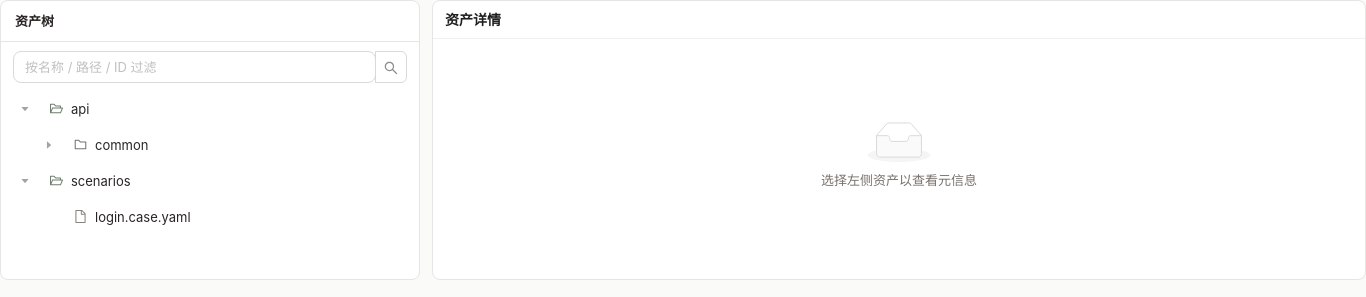
Test: AssetBrowser › 本地过滤保留祖先，清空后恢复
This screenshot has width=1366, height=297.
Expected: the text "scenarios" is shown, [71,171,131,192]
In the search field named "过滤资产": (186, 67) [25,56,348,78], type "health_check"
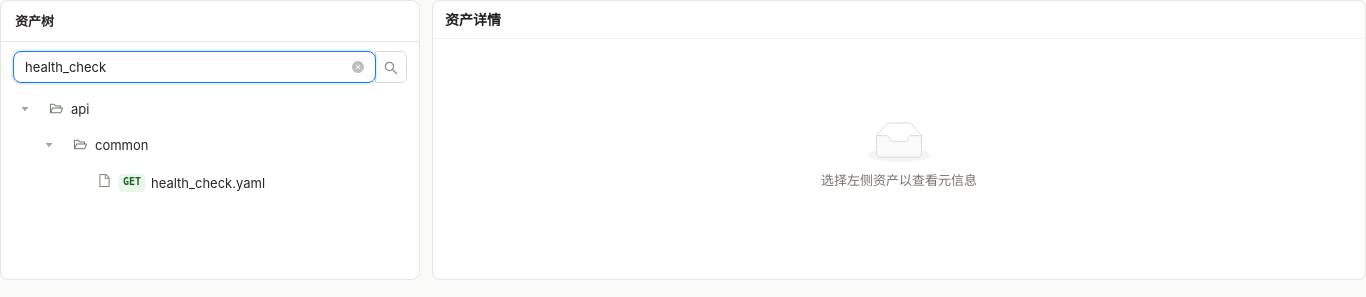
Expected: the element showing "api" is shown, [71,99,89,120]
Expected: the text "health_check.yaml" is shown, [151,173,265,194]
Clear the search field named "过滤资产": (186, 67) [25,56,348,78]
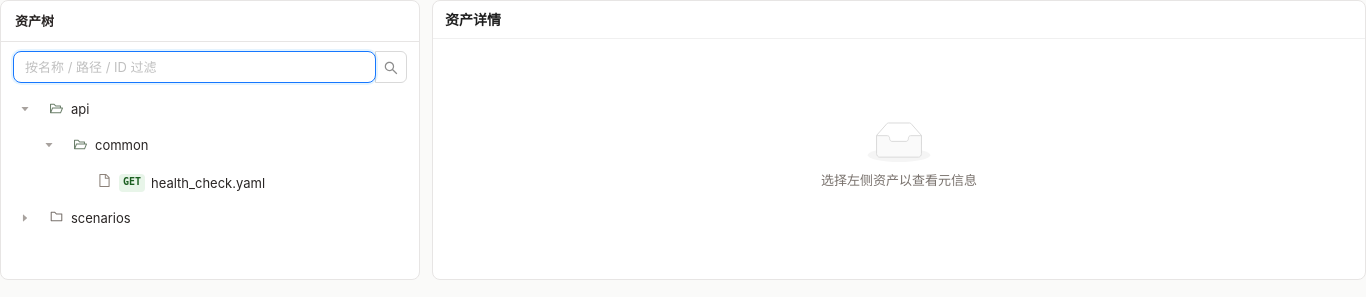
Expected: the text "scenarios" is shown, [71,208,131,228]
